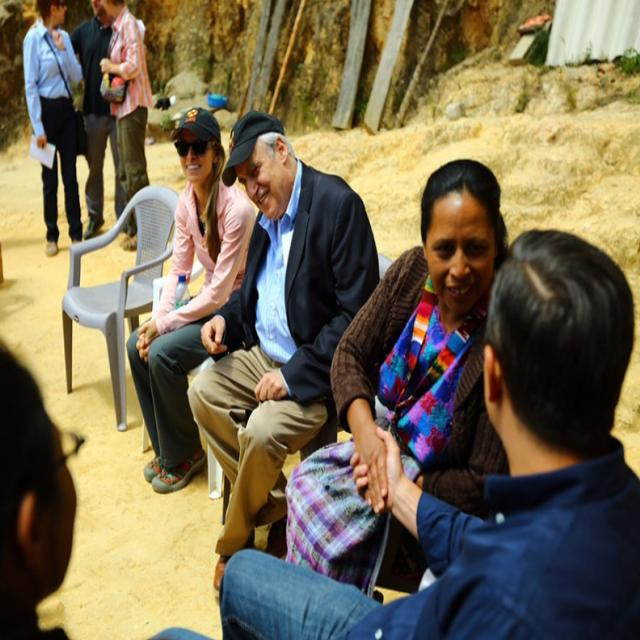body: (133, 225, 640, 639), (284, 159, 512, 602), (184, 109, 382, 595), (124, 107, 257, 495), (0, 227, 86, 638), (22, 0, 92, 258), (96, 0, 156, 254), (67, 0, 129, 242)
